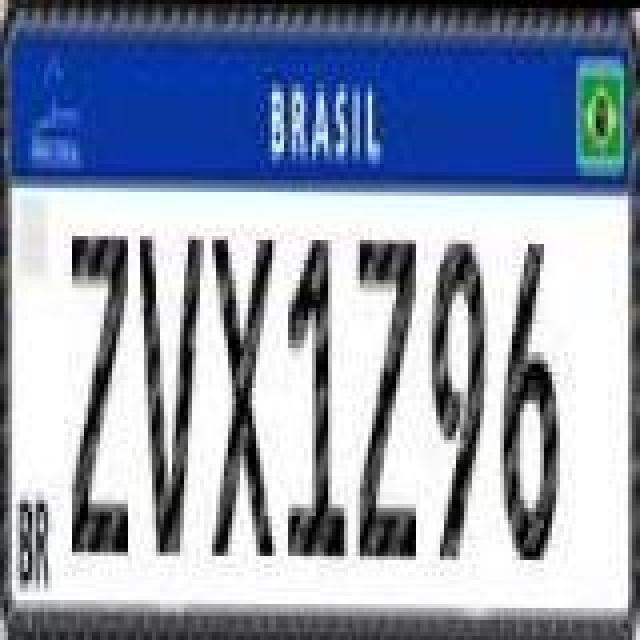1: (282, 234, 350, 558)
6: (496, 230, 560, 566)
9: (424, 230, 488, 566)
V: (138, 232, 206, 556)
X: (210, 232, 278, 556)
Z: (356, 228, 420, 564), (68, 232, 132, 556)
